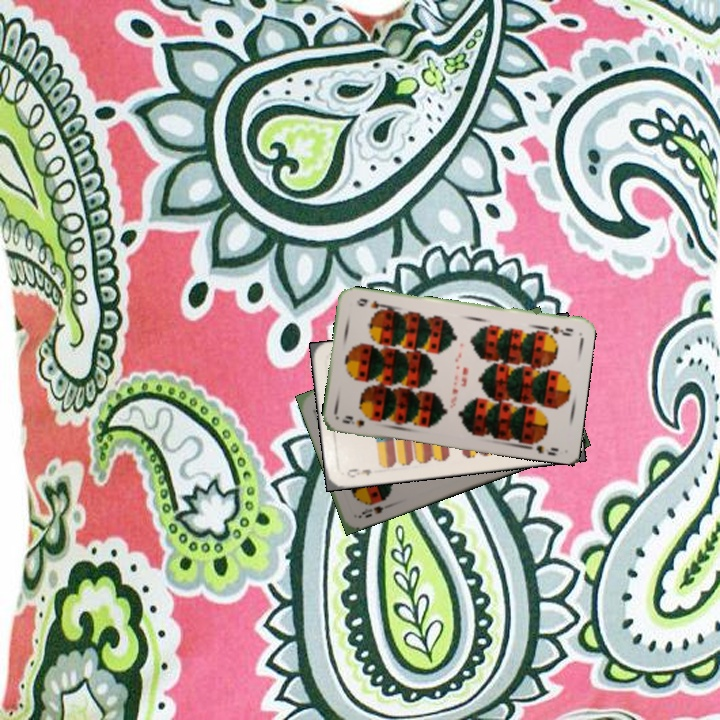E9: (343, 465, 374, 480)
S9: (538, 322, 575, 338), (338, 411, 367, 430)
SO: (357, 502, 386, 520)
